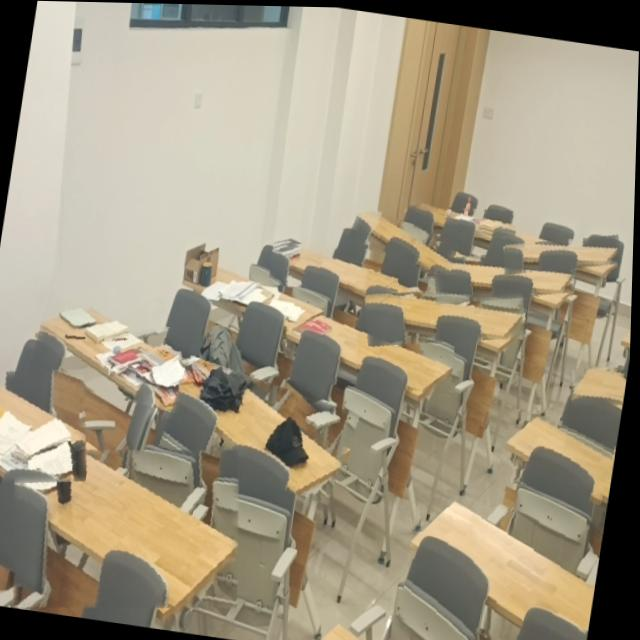Non-empty: (18, 449, 241, 607), (181, 370, 345, 492), (43, 307, 223, 409), (288, 315, 454, 390), (183, 255, 325, 327), (0, 387, 87, 482), (274, 242, 399, 290), (416, 204, 517, 234)
empty: (415, 499, 597, 640), (507, 412, 615, 502), (367, 291, 526, 336), (357, 208, 453, 269), (437, 256, 575, 293), (506, 242, 620, 263), (574, 365, 627, 400)
